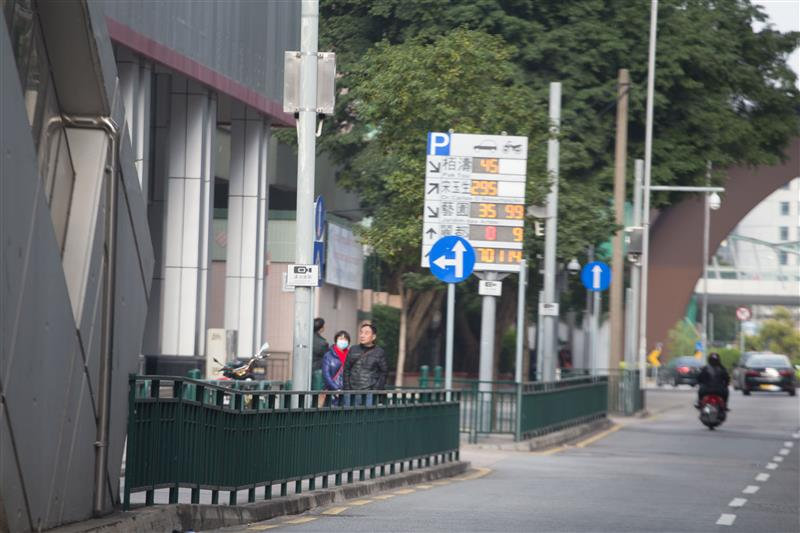straightOnly: (580, 260, 612, 291)
straightOrLeftTurnOnly: (428, 235, 476, 281)
